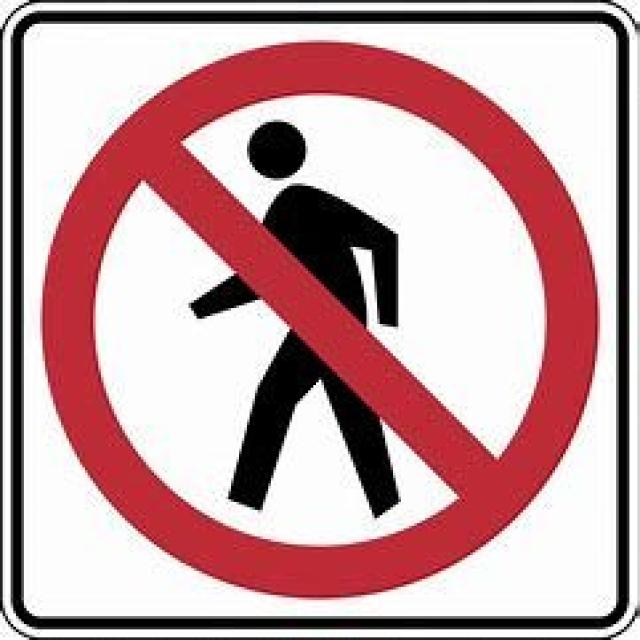PEDESTRIAN_PROHIBITED: (41, 36, 601, 601)
